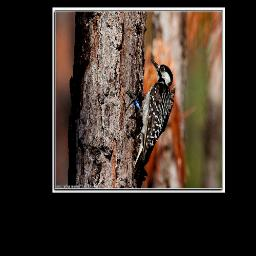Woodpecker: (119, 54, 180, 188)
